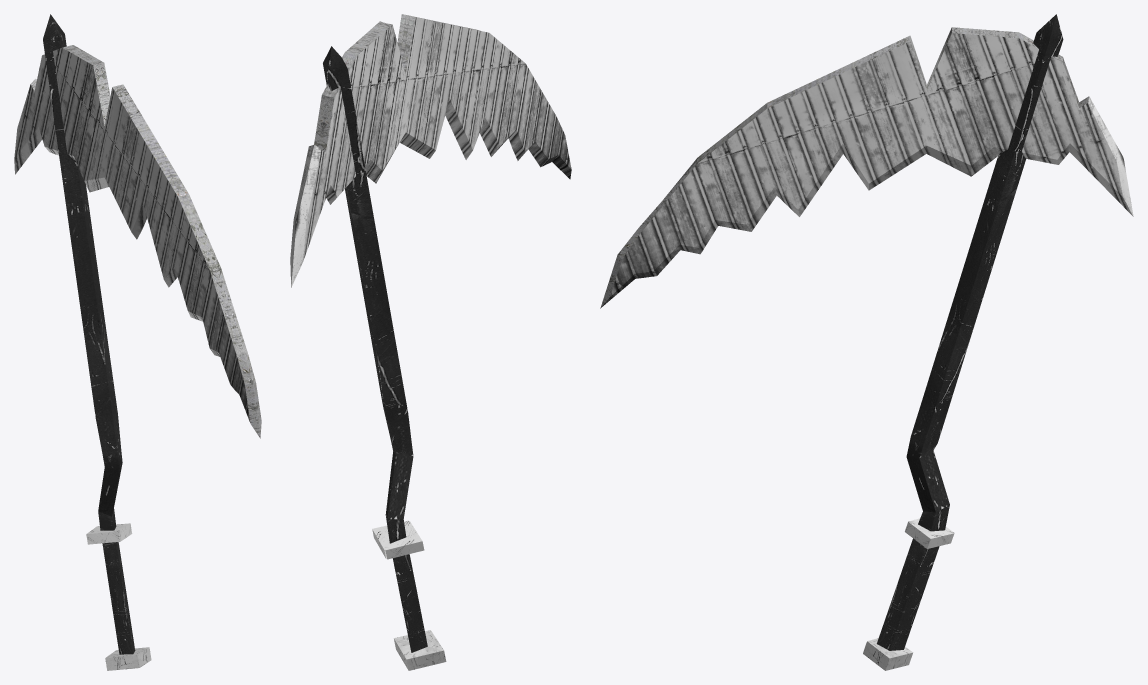
File: slasher_scythe_mesh.fbx
3 renders of one model, left to right at view 1: azimuth 30°, elevation 25°; view 2: azimuth 150°, elevation 25°; view 3: azimuth 270°, elevation 25°, orthographic. The views are drawn at different scales.
Parts seen in each view (by area): view 1: polySurface5; view 2: polySurface5; view 3: polySurface5.
Boxes of the visible parts, left/top/right/bottom form: polySurface5: left=14, top=14, right=261, bottom=670; polySurface5: left=290, top=14, right=571, bottom=670; polySurface5: left=600, top=14, right=1133, bottom=670.
Bounding box in the file's own units: 86.08 × 1112 × 826.
Materials: 1 (1 with a texture image).
